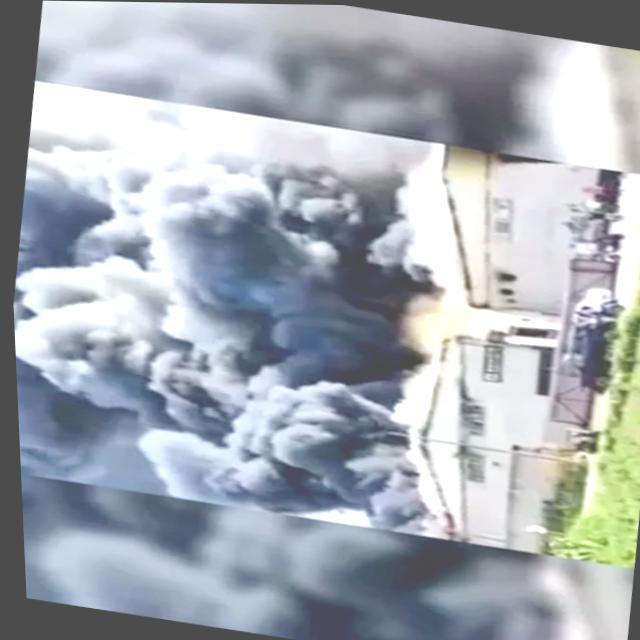Smoke: (3, 82, 451, 530)
